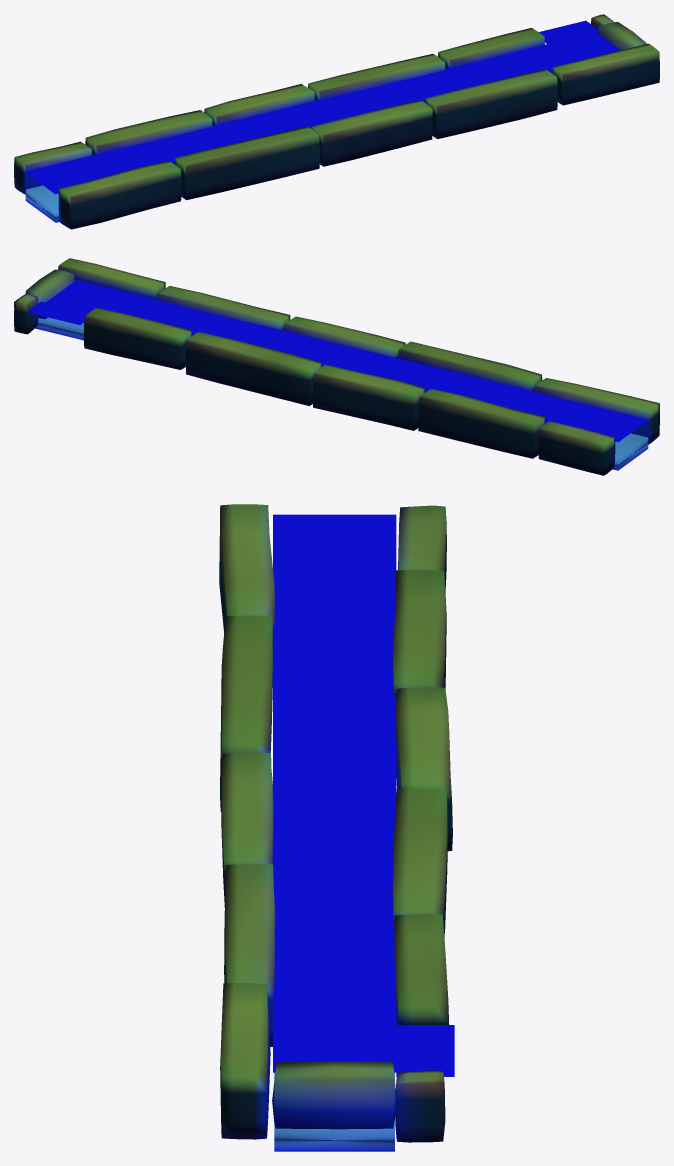
Rendered from terrace_channel_inlet_l.glb.
3 renders of one model, top to bottom at view 1: azimuth 30°, elevation 25°; view 2: azimuth 150°, elevation 25°; view 3: azimuth 270°, elevation 25°, orthographic. The views are drawn at different scales.
Parts seen in each view (by area): view 1: terrace_channel_inlet_l; view 2: terrace_channel_inlet_l; view 3: terrace_channel_inlet_l.
Boxes of the visible parts, x1,y1,x2,y2 form: terrace_channel_inlet_l: (14,14,659,229); terrace_channel_inlet_l: (14,258,659,475); terrace_channel_inlet_l: (219,504,454,1151).
Size of what is drawn, in the model's own units: 4 by 0.2433 by 0.6869.
